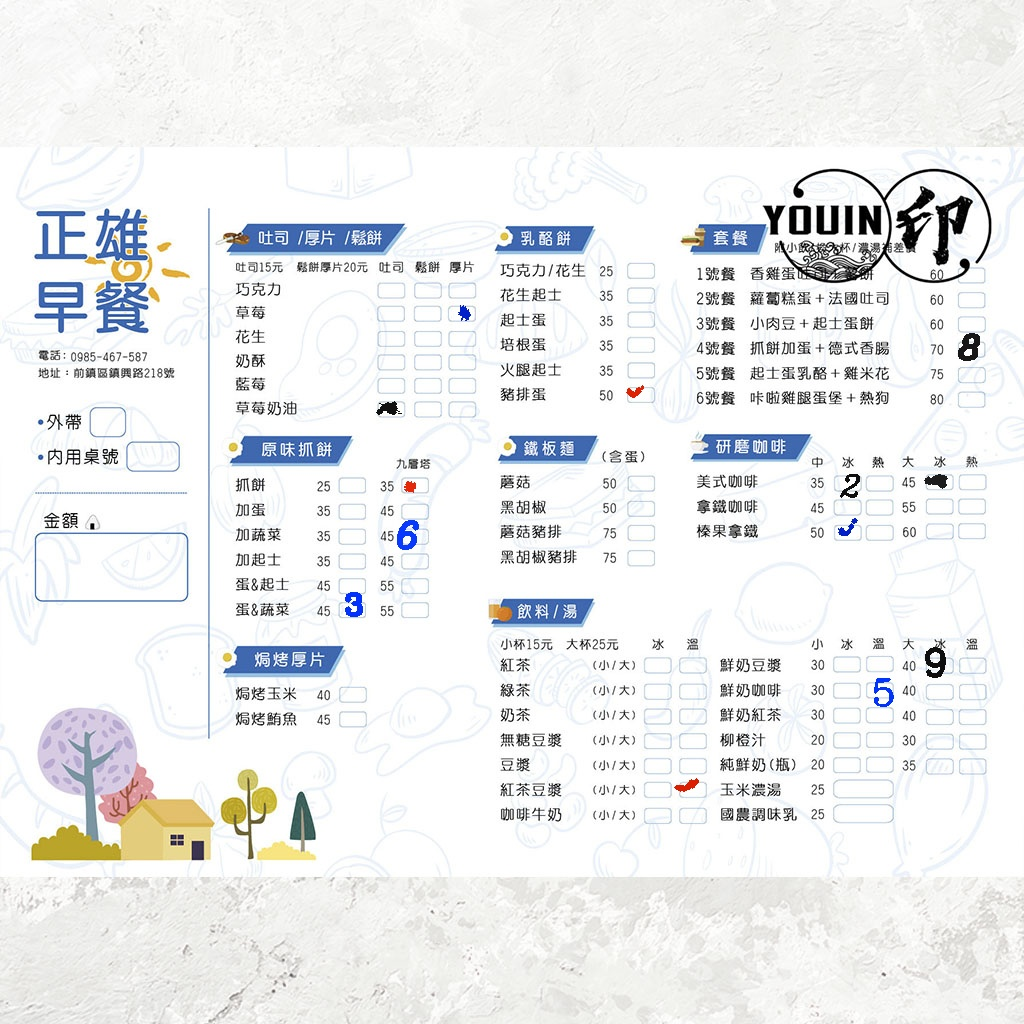marked_circle: (448, 305, 474, 319), (401, 478, 427, 492)
marked_number_2: (833, 476, 859, 490)
marked_number_3: (338, 602, 364, 616)
marked_number_5: (869, 682, 895, 696)
marked_number_6: (401, 528, 427, 542)
marked_number_8: (957, 341, 983, 355)
marked_number_9: (926, 657, 952, 671)
marked_tick: (679, 780, 705, 794), (626, 385, 652, 399), (834, 524, 860, 538)
marked_x: (925, 474, 951, 488), (377, 401, 403, 415)
